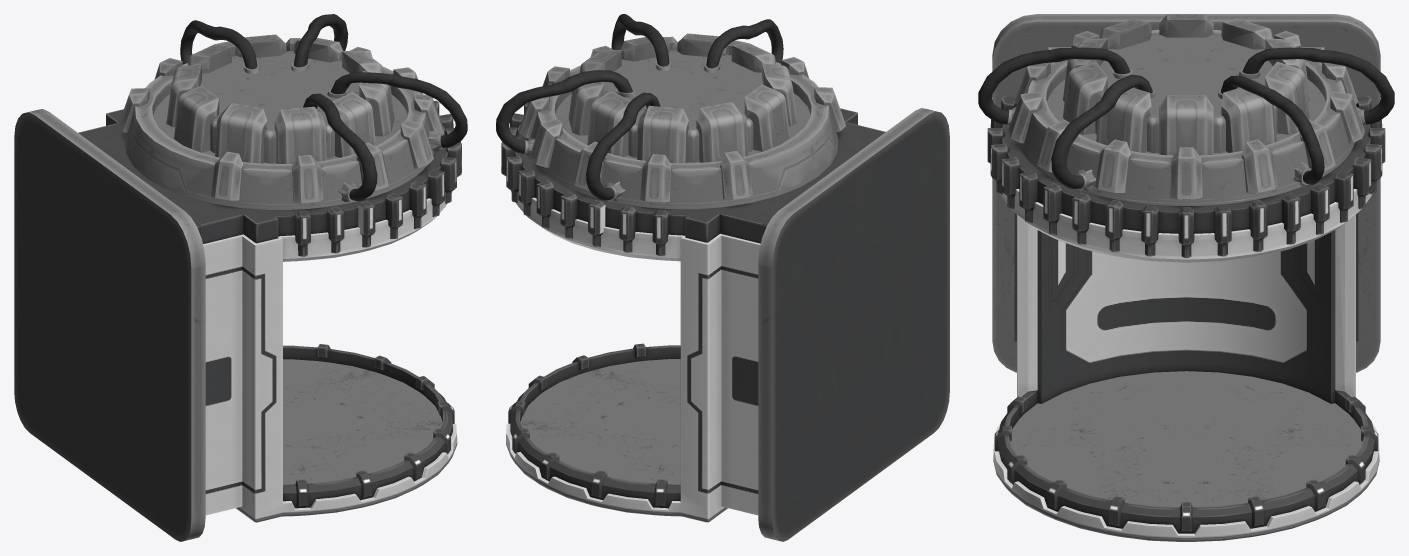
Rendered from SM_LabCapsule11_1_Capsule.FBX.
3 renders of one model, left to right at view 1: azimuth 30°, elevation 25°; view 2: azimuth 150°, elevation 25°; view 3: azimuth 270°, elevation 25°, orthographic. The views are drawn at different scales.
Parts seen in each view (by area): view 1: SM_LabCapsule11_1_Capsule; view 2: SM_LabCapsule11_1_Capsule; view 3: SM_LabCapsule11_1_Capsule.
Boxes of the visible parts, x1,y1,x2,y2 form: SM_LabCapsule11_1_Capsule: (14,14,467,541); SM_LabCapsule11_1_Capsule: (496,14,949,541); SM_LabCapsule11_1_Capsule: (978,14,1394,541).
Size of what is drawn, in the model's own units: 325 by 319 by 349.
